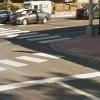Crosswalk: (3, 24, 64, 83)
